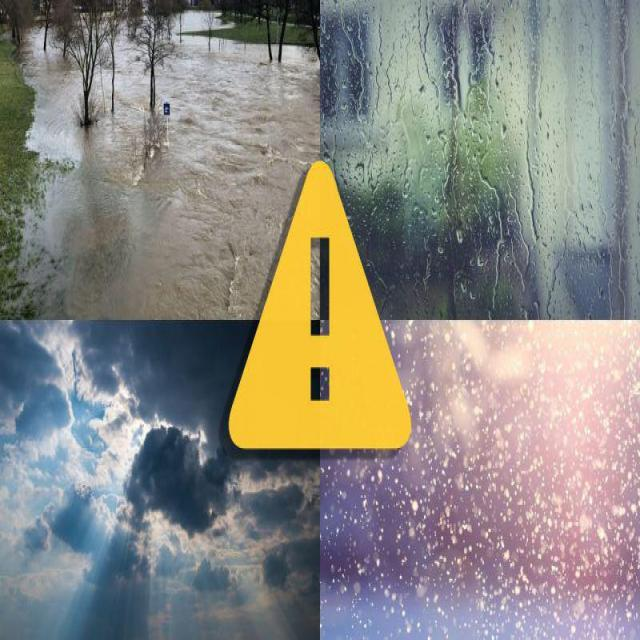other: (242, 150, 420, 496), (438, 316, 591, 453), (87, 381, 122, 441)
